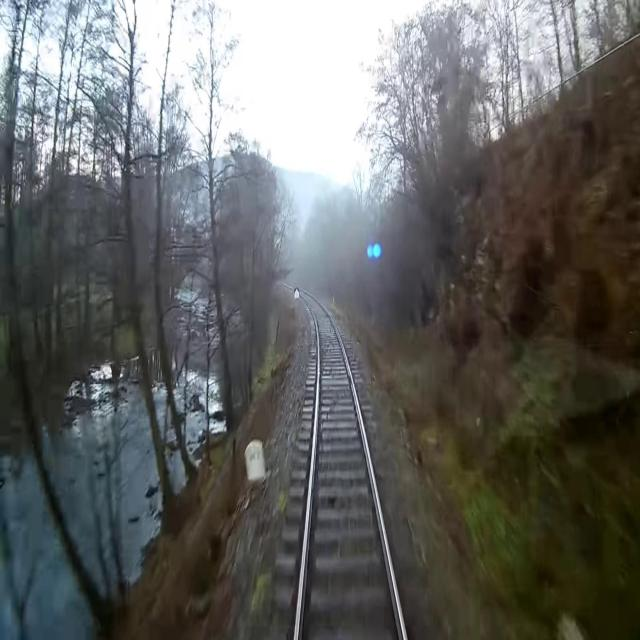rail-track: (298, 291, 402, 639)
